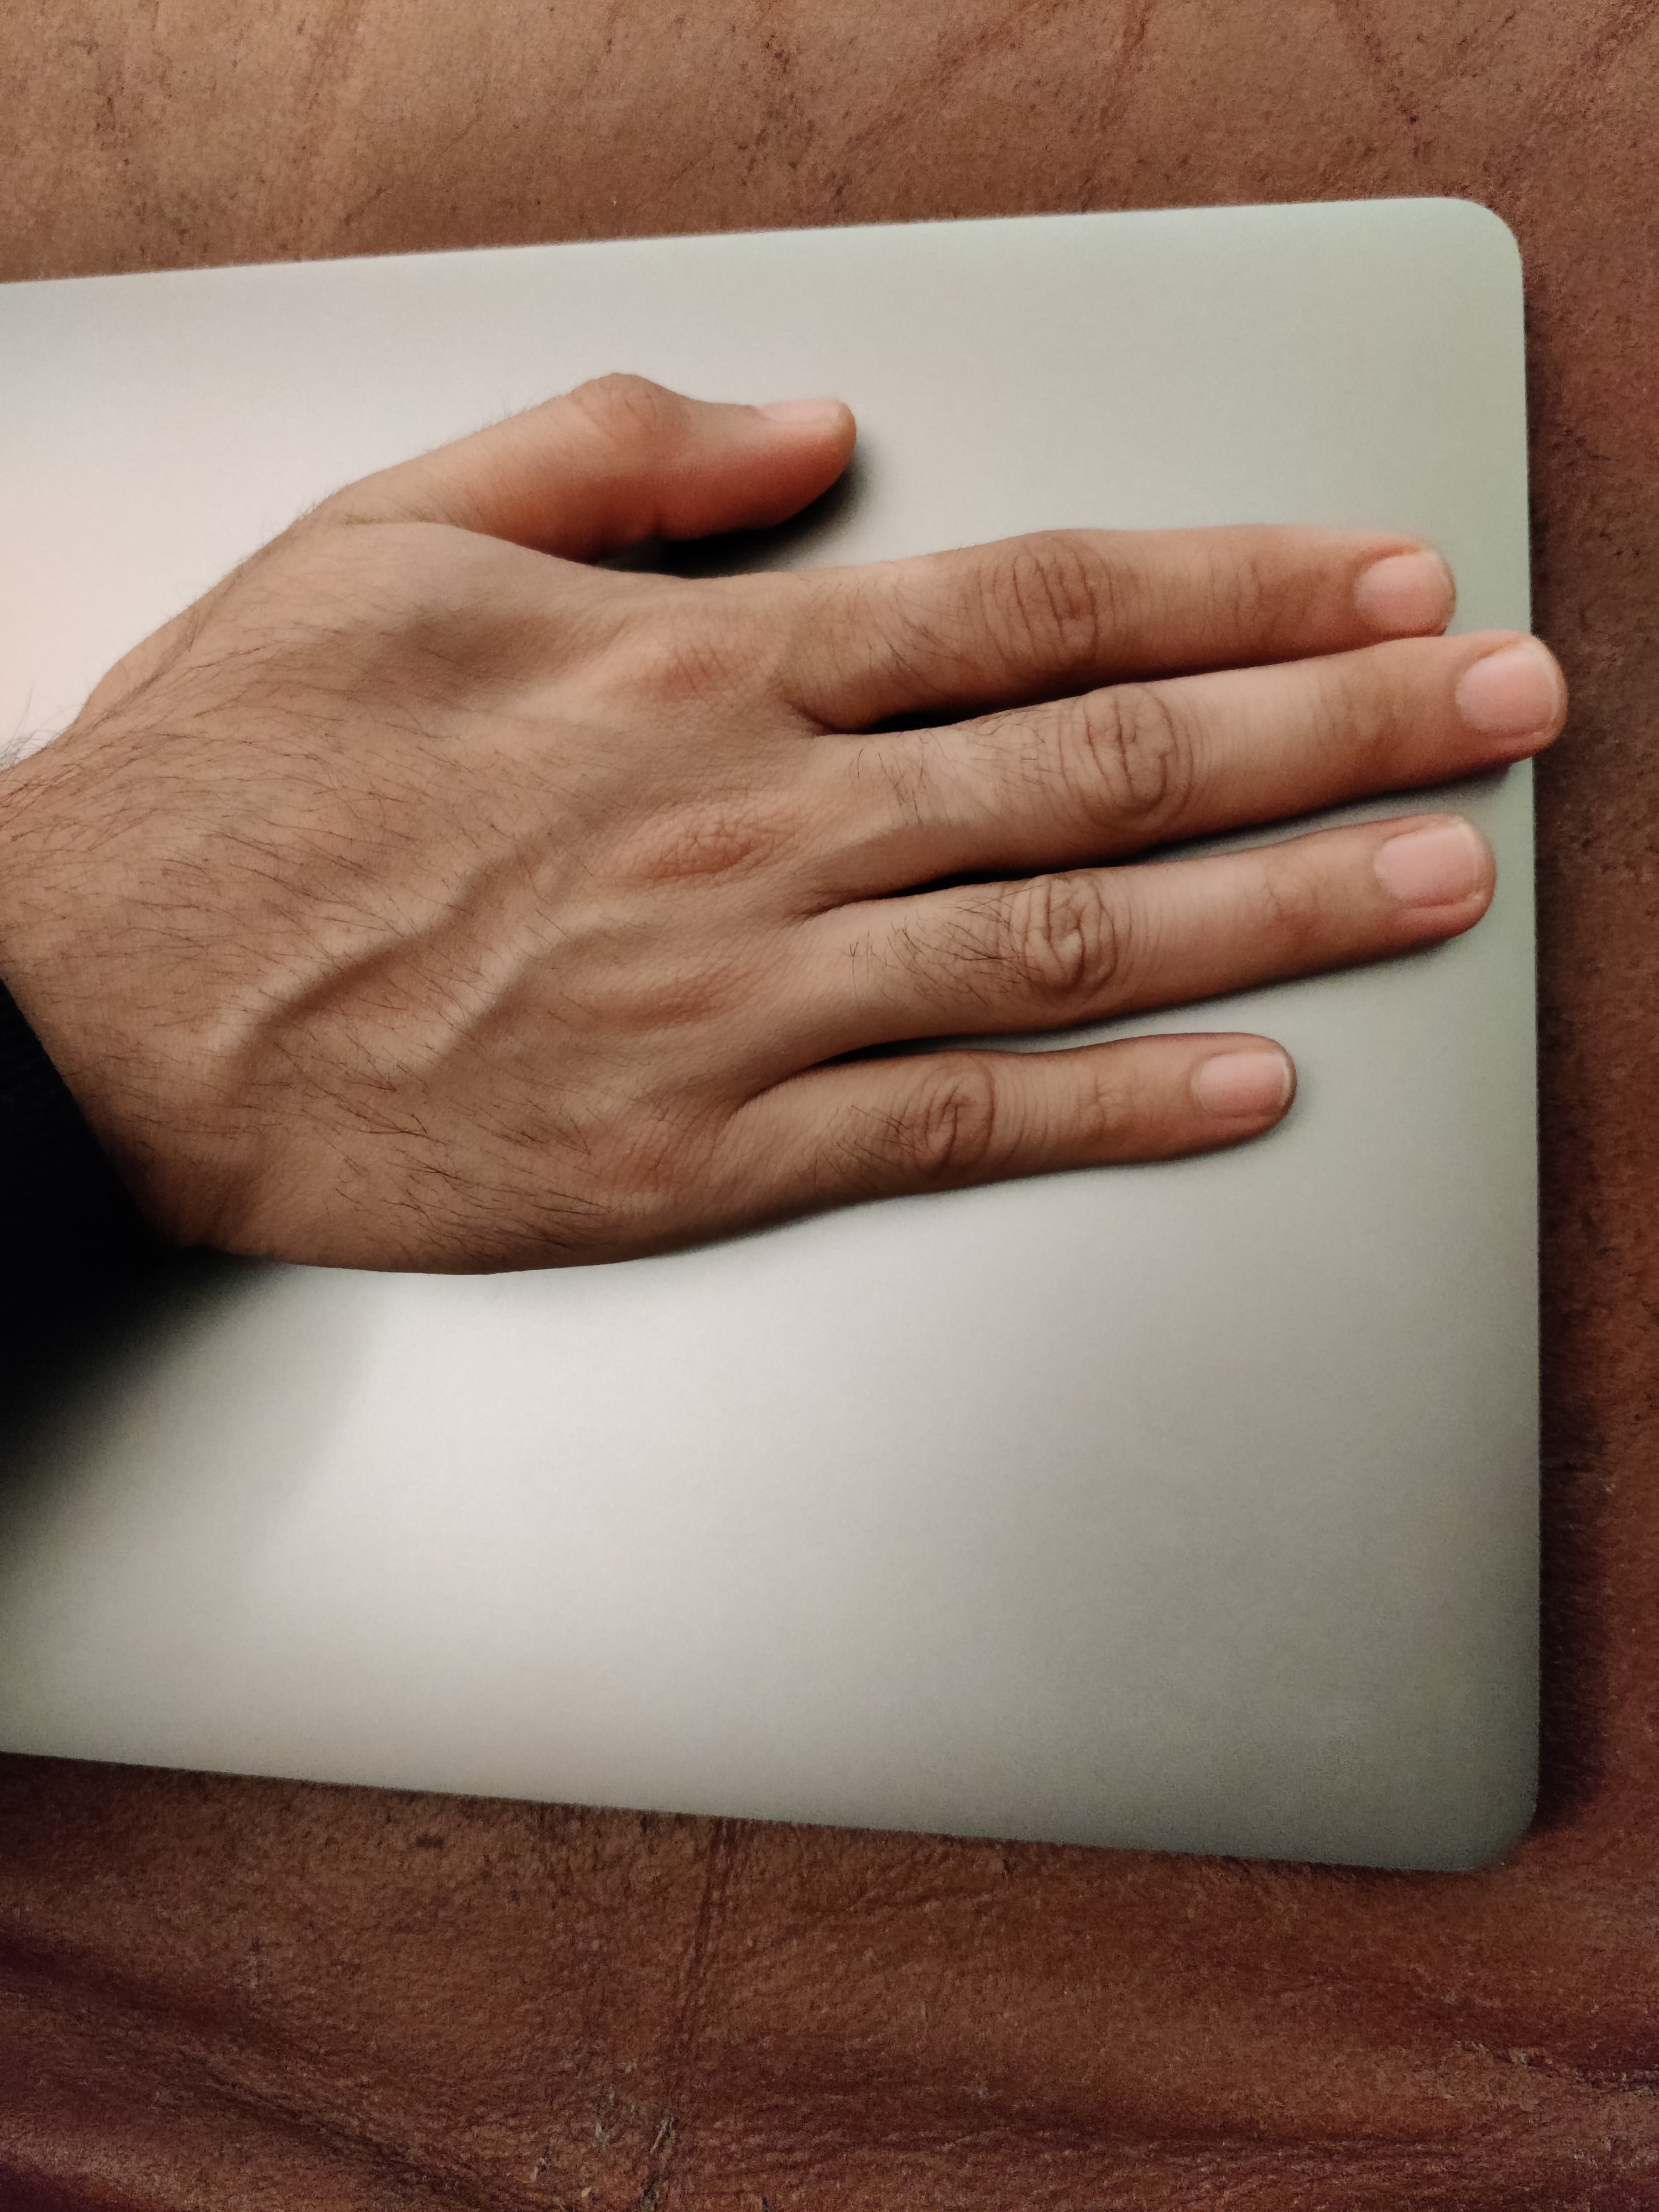left: (44, 347, 1626, 1561)
